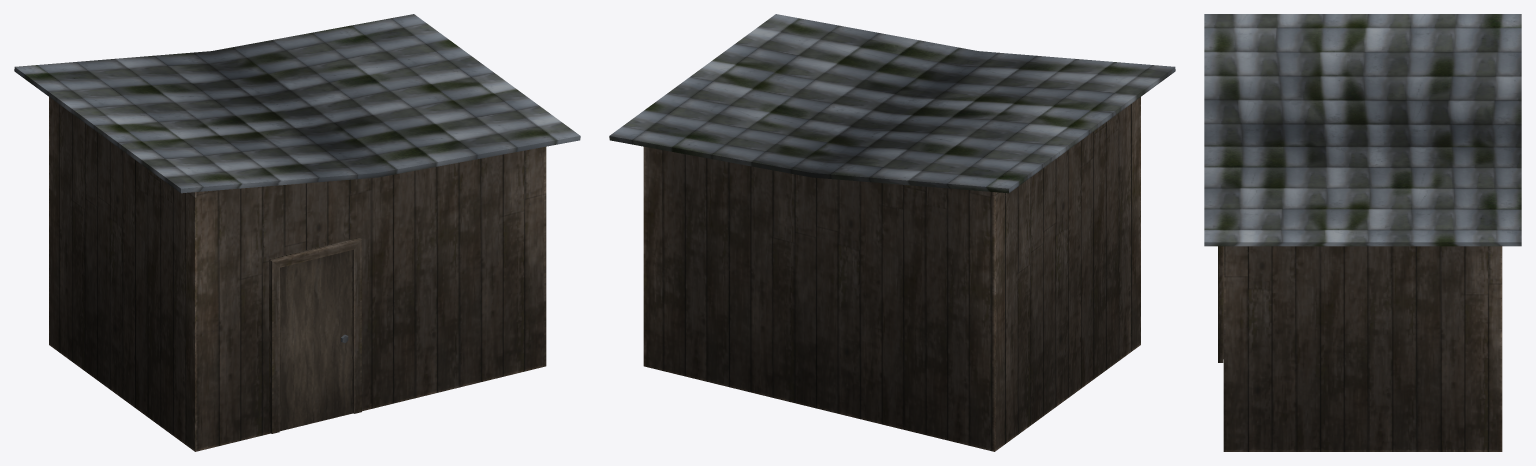
File: Shack.fbx
3 views of the same model, side by side, from view 1: azimuth 30°, elevation 25°; view 2: azimuth 150°, elevation 25°; view 3: azimuth 270°, elevation 25° (orthographic). The views are drawn at different scales.
Parts seen in each view (by area): view 1: Shack; view 2: Shack; view 3: Shack.
Part boxes in pixels (x1=…): Shack: x1=14, y1=14, x2=580, y2=451; Shack: x1=609, y1=14, x2=1175, y2=451; Shack: x1=1204, y1=14, x2=1521, y2=451.
Bounding box in the file's own units: 358 × 237 × 259.
